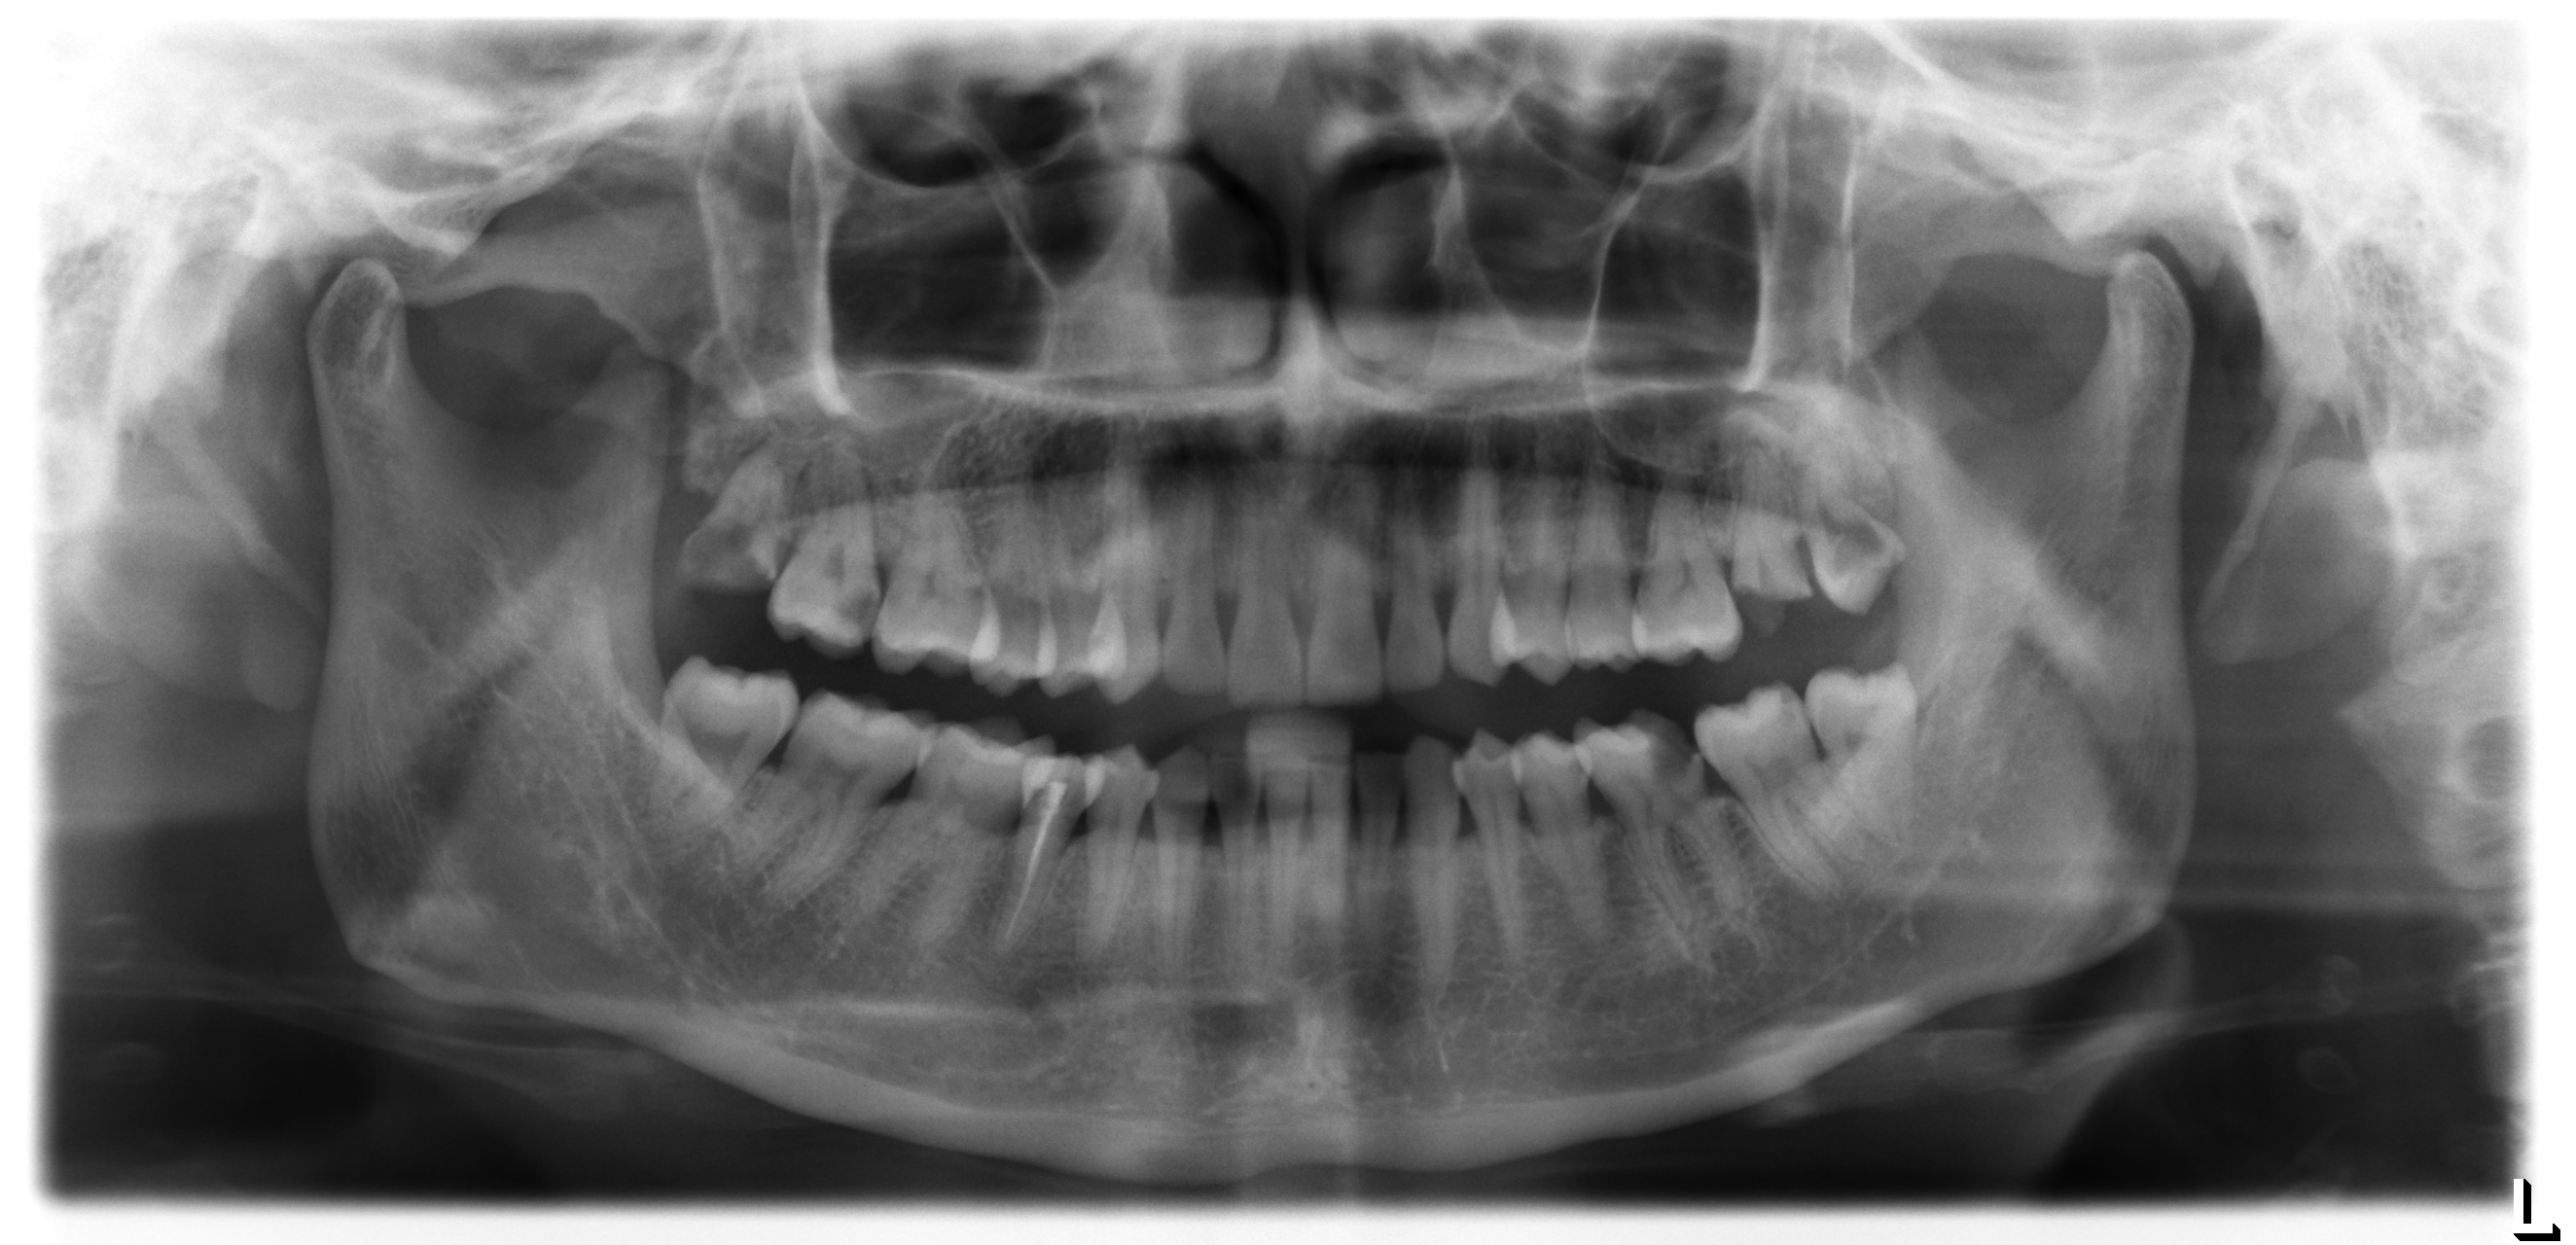Decay: (672, 493, 789, 598), (1623, 700, 1712, 805), (1814, 506, 1899, 590), (1728, 545, 1804, 636), (833, 575, 884, 644)
